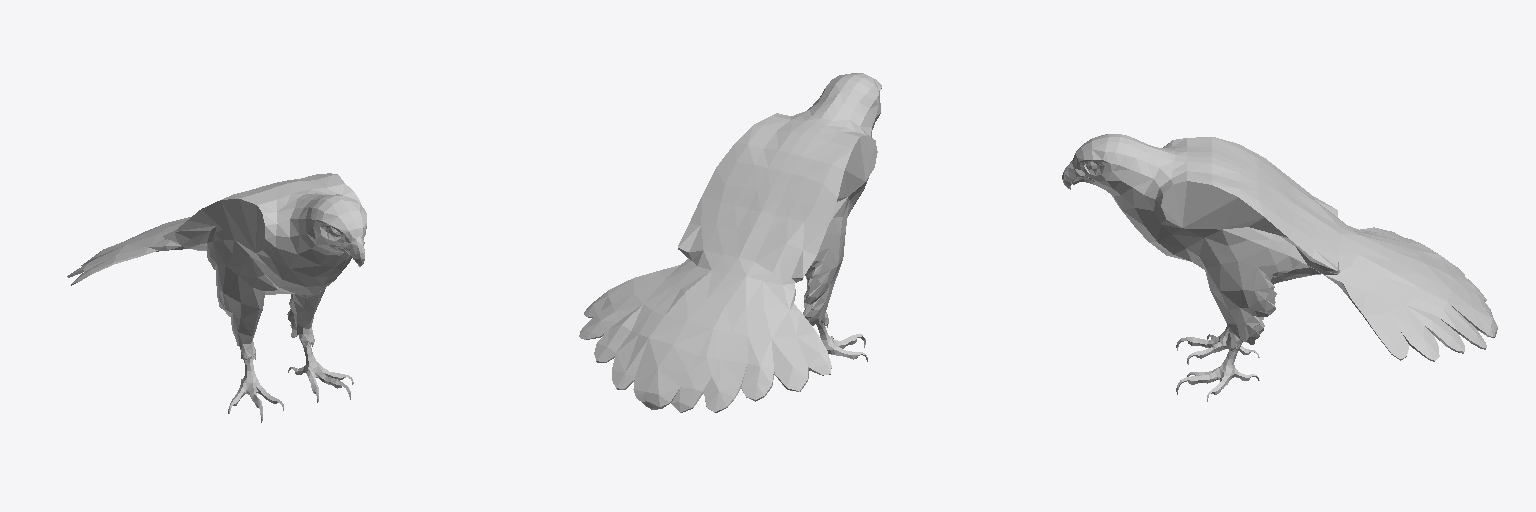
The model's file is cuerpo.obj.
3 views of the same model, side by side, from view 1: azimuth 30°, elevation 25°; view 2: azimuth 150°, elevation 25°; view 3: azimuth 270°, elevation 25° (orthographic).
Visible parts, largest first — view 1: cuerpo; view 2: cuerpo; view 3: cuerpo.
Part boxes in pixels (x1,y1,x2,y2): cuerpo: (67, 173, 366, 422); cuerpo: (579, 73, 881, 412); cuerpo: (1062, 134, 1497, 401).
Size of the model in its own units: 0.9542 by 0.873 by 1.45.